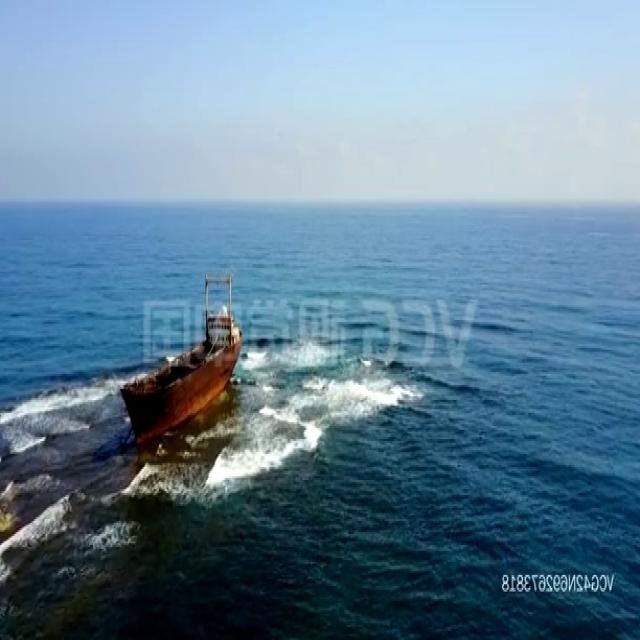cargoship: (125, 272, 249, 442)
